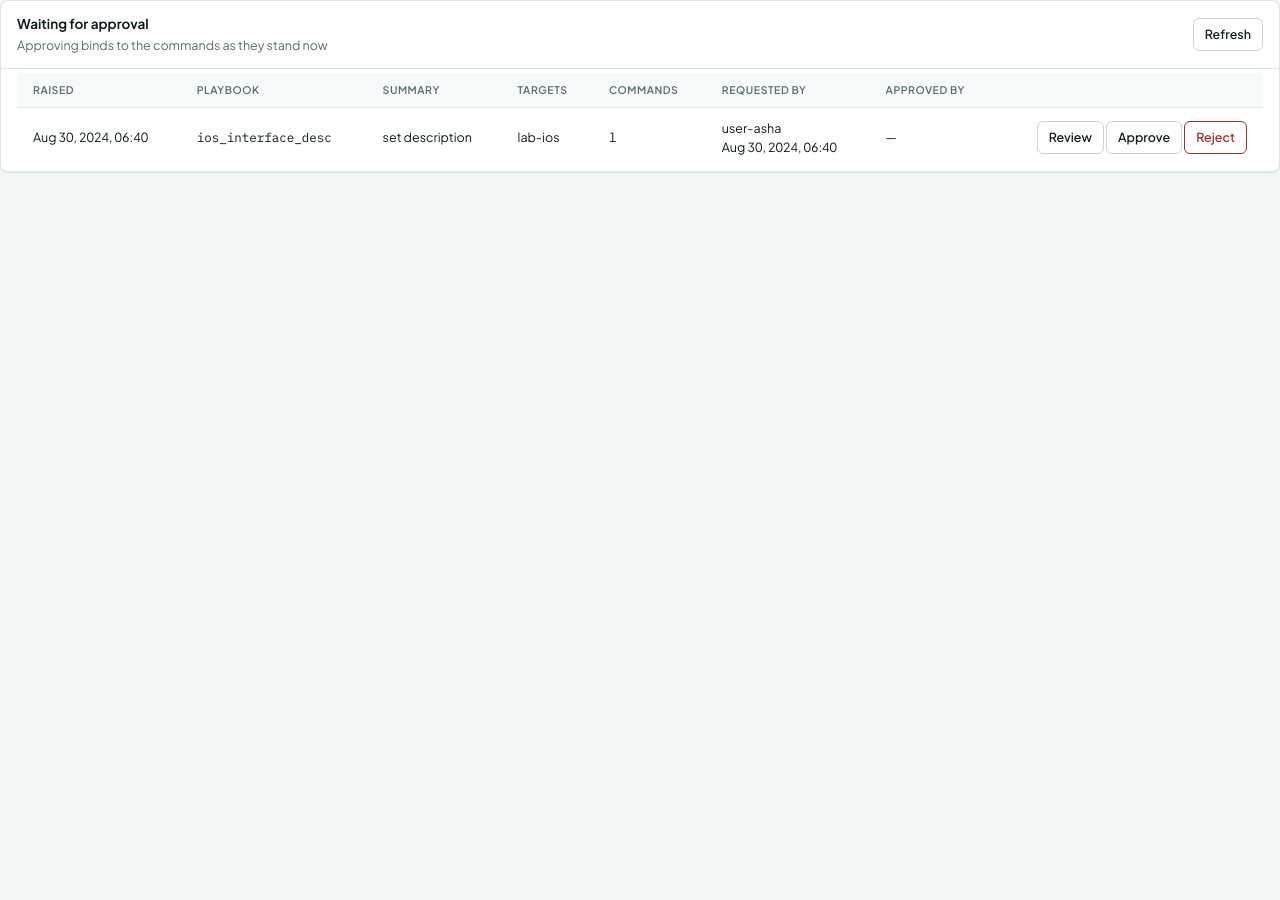
Test: ChangesPanel self-approval › keeps neutral copy when another user would approve
Click the button "Approve".
click(1144, 138)  # box [1106,121,1182,154]
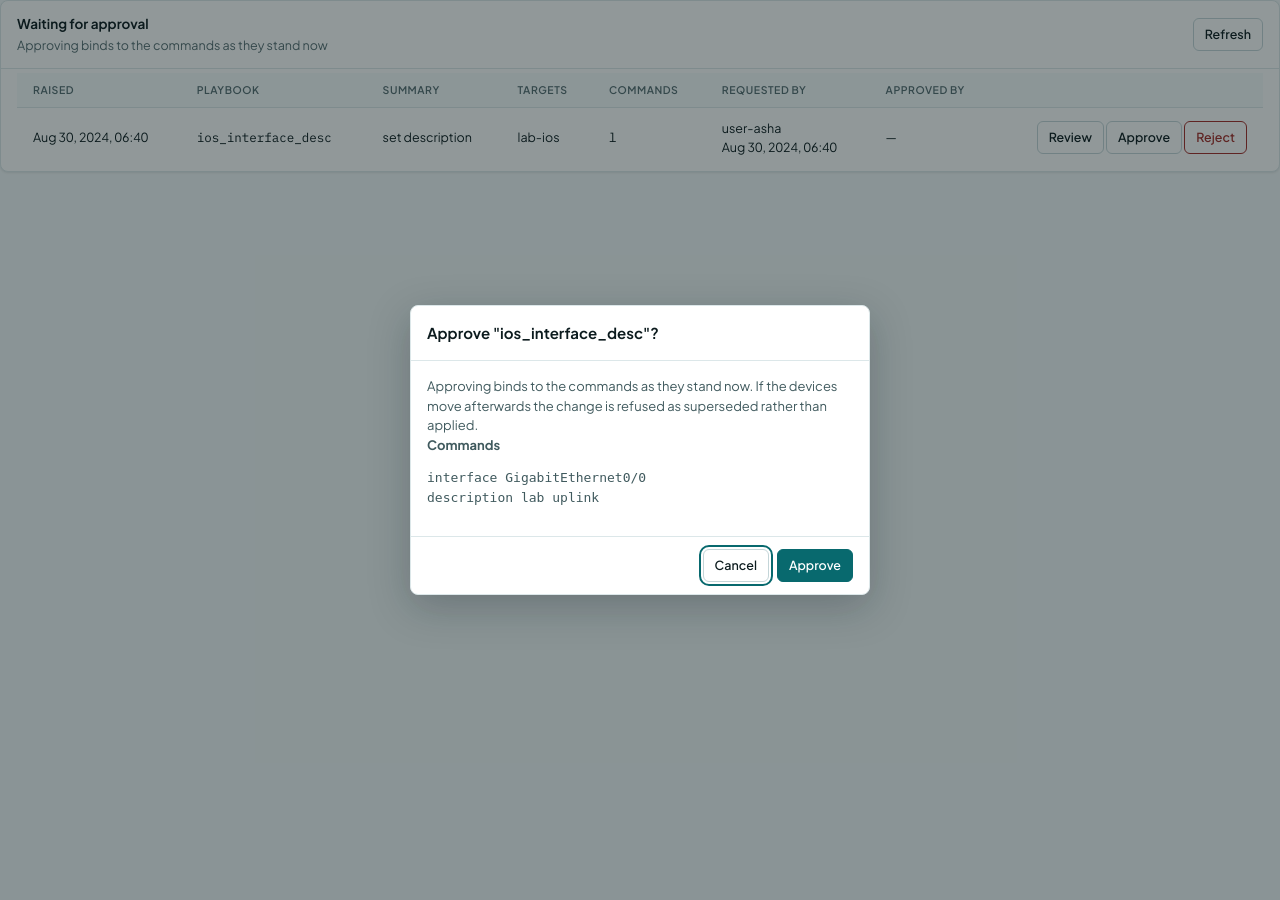
Now the text "If the devices move afterwards" is shown, box [427,378,838,433]
Now the text "interface GigabitEthernet0/0 description lab uplink" is shown, box [427,470,646,505]
